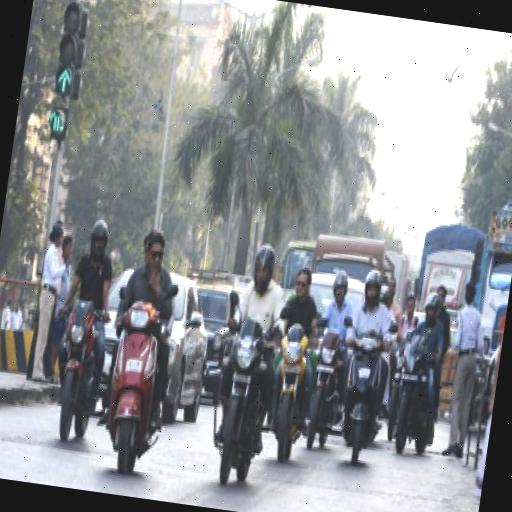helmet: (200, 234, 298, 492), (34, 206, 126, 459), (327, 249, 406, 463), (296, 249, 365, 448), (389, 276, 458, 466)
no helmet: (84, 212, 192, 472), (256, 254, 326, 440)
